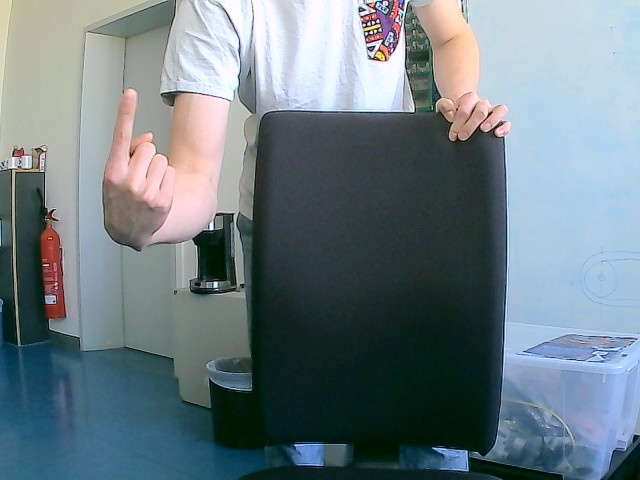6: (101, 87, 177, 251)
no_gesture: (435, 91, 512, 143)
